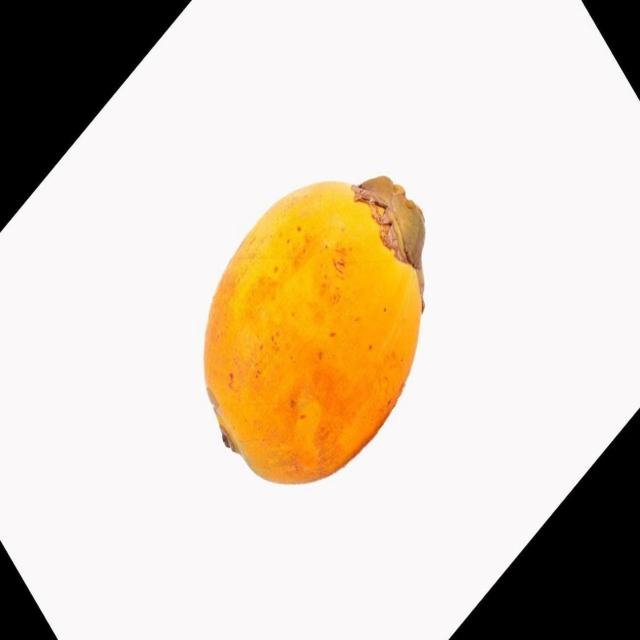good: (200, 175, 427, 489)
